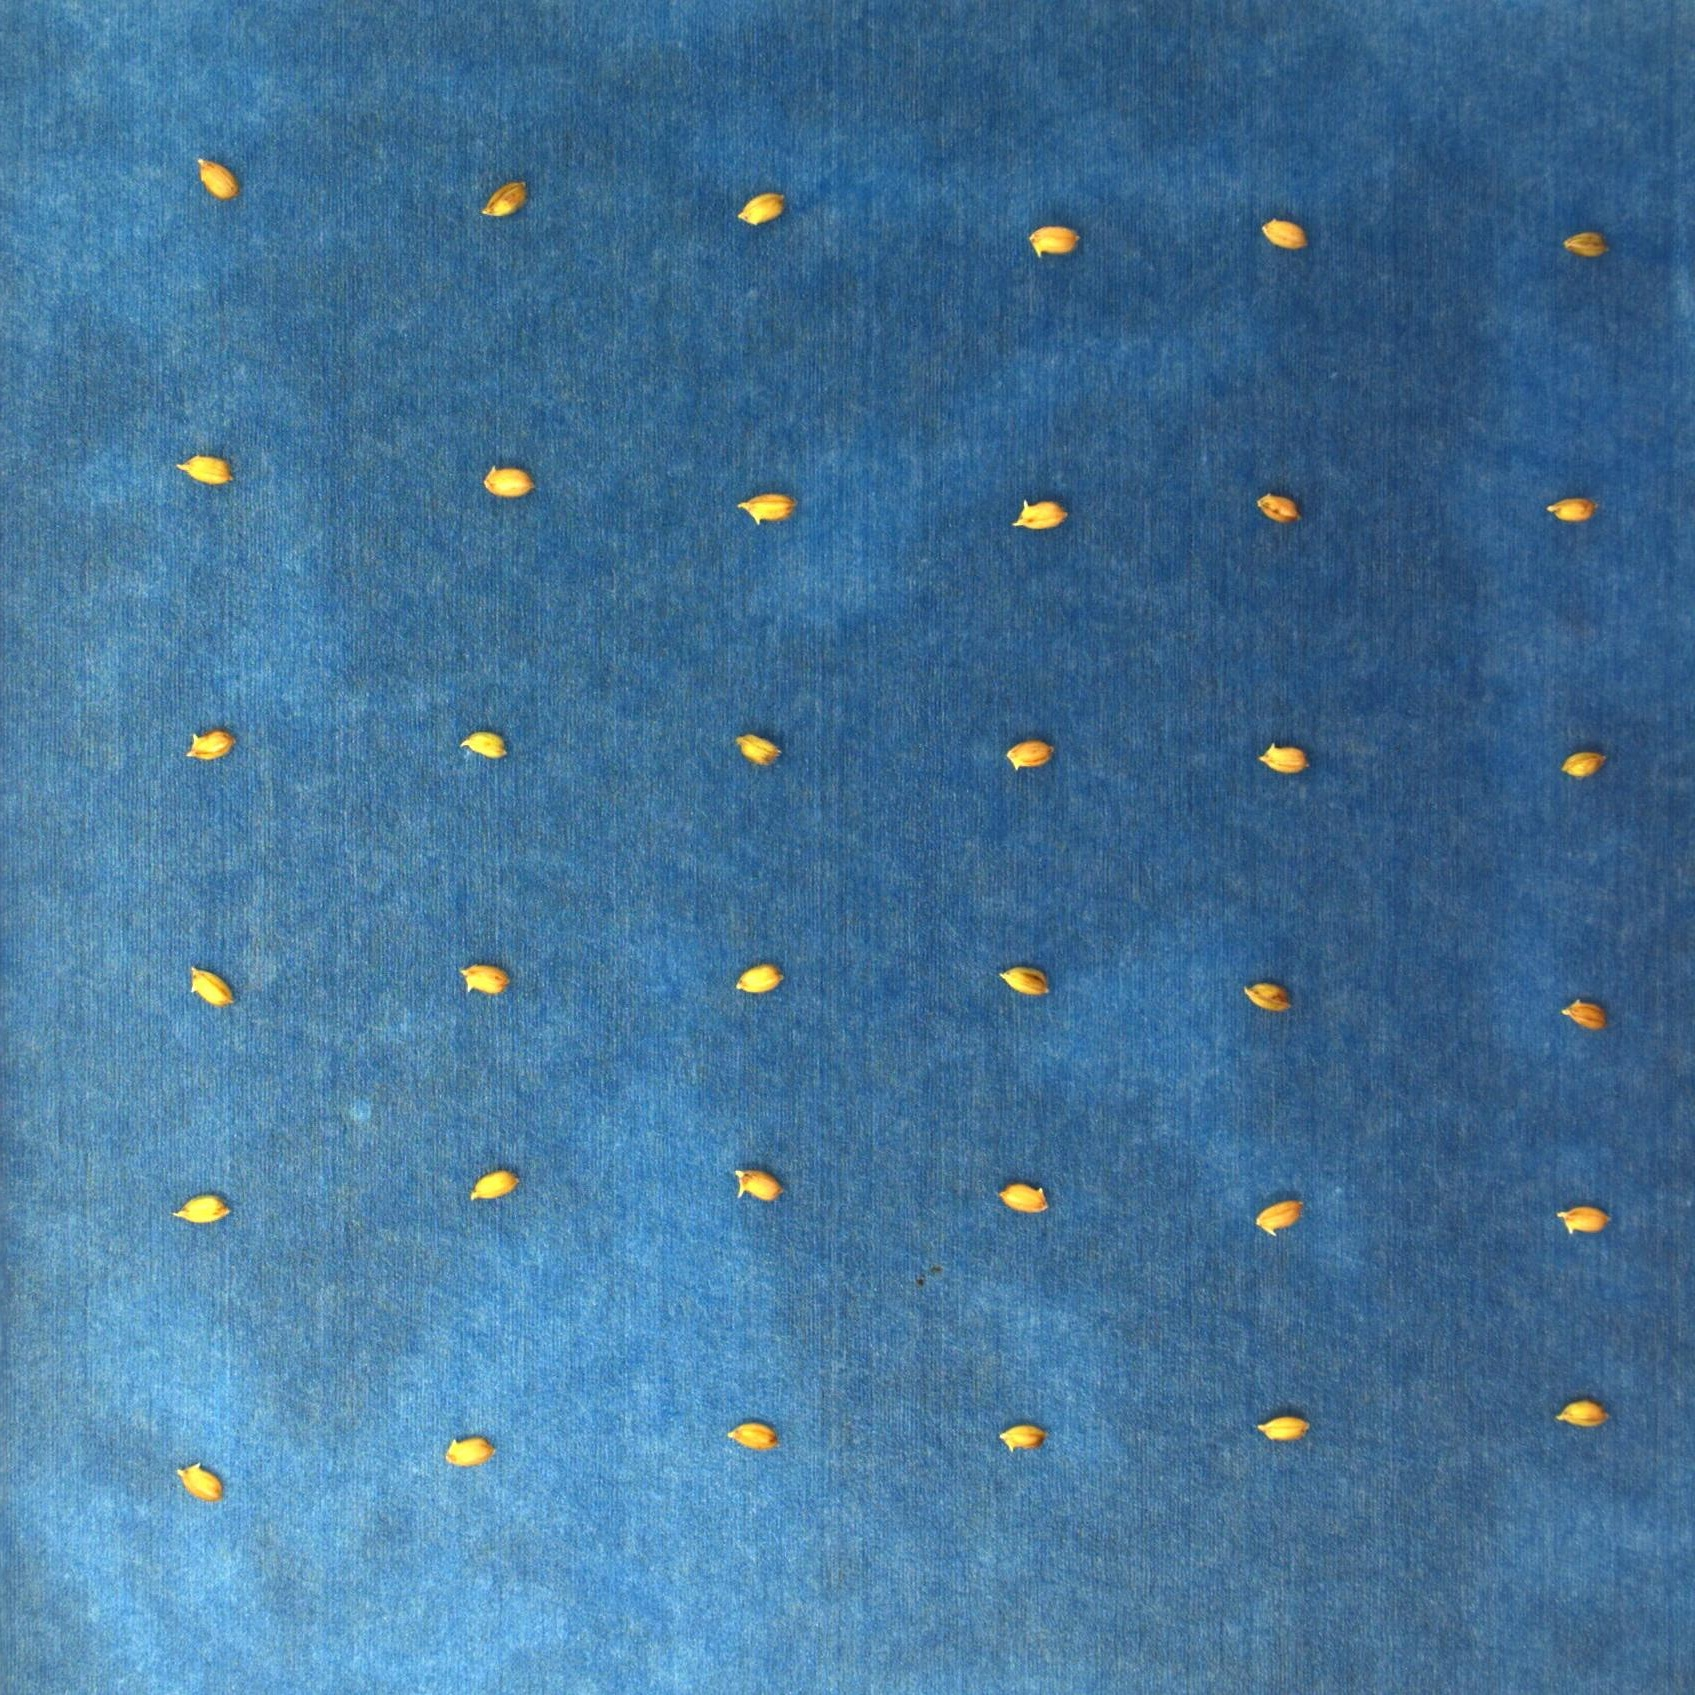not sprout: (473, 174, 532, 217), (168, 1191, 236, 1226), (737, 490, 801, 526), (1237, 976, 1298, 1014), (1257, 740, 1313, 779), (466, 1166, 520, 1205), (1026, 225, 1085, 261), (175, 452, 236, 486), (728, 1166, 785, 1201), (737, 189, 792, 227), (1256, 1198, 1305, 1239), (1257, 214, 1315, 248), (1254, 1414, 1312, 1448), (1010, 501, 1073, 532), (731, 726, 782, 764), (183, 731, 239, 764), (1001, 736, 1057, 768), (725, 1419, 781, 1451), (175, 1461, 224, 1498), (478, 466, 539, 495), (461, 964, 512, 998), (186, 969, 231, 1007), (197, 157, 237, 199), (1544, 494, 1605, 522), (1557, 1205, 1611, 1236), (998, 967, 1049, 1000), (439, 1436, 498, 1464), (730, 962, 782, 993), (1563, 995, 1611, 1028), (1557, 1395, 1611, 1423), (1565, 231, 1611, 262), (1000, 1183, 1051, 1211), (998, 1423, 1048, 1451), (1557, 750, 1608, 776), (1257, 494, 1298, 523), (458, 733, 508, 754)
